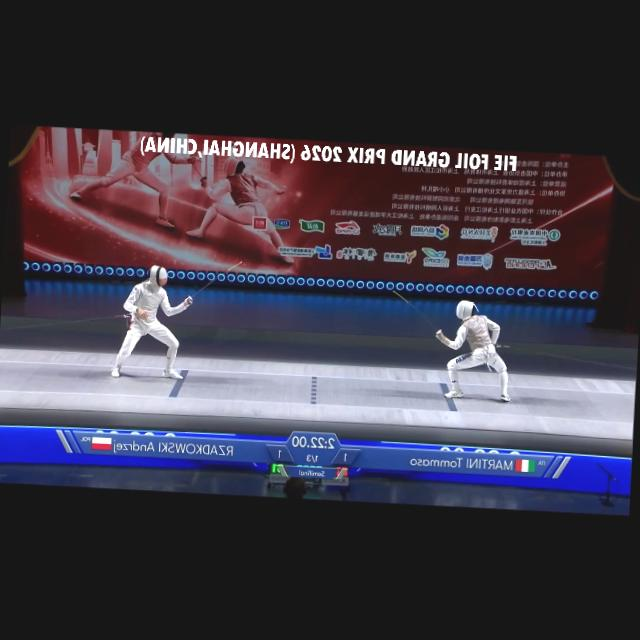blade: (182, 256, 246, 310), (387, 286, 446, 342)
